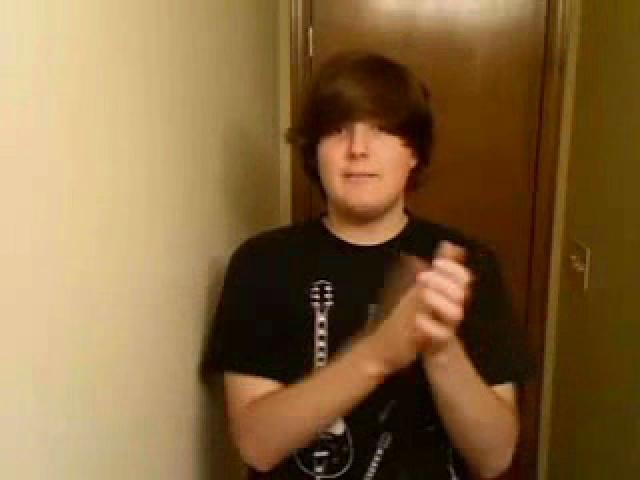F: (217, 50, 522, 480)
